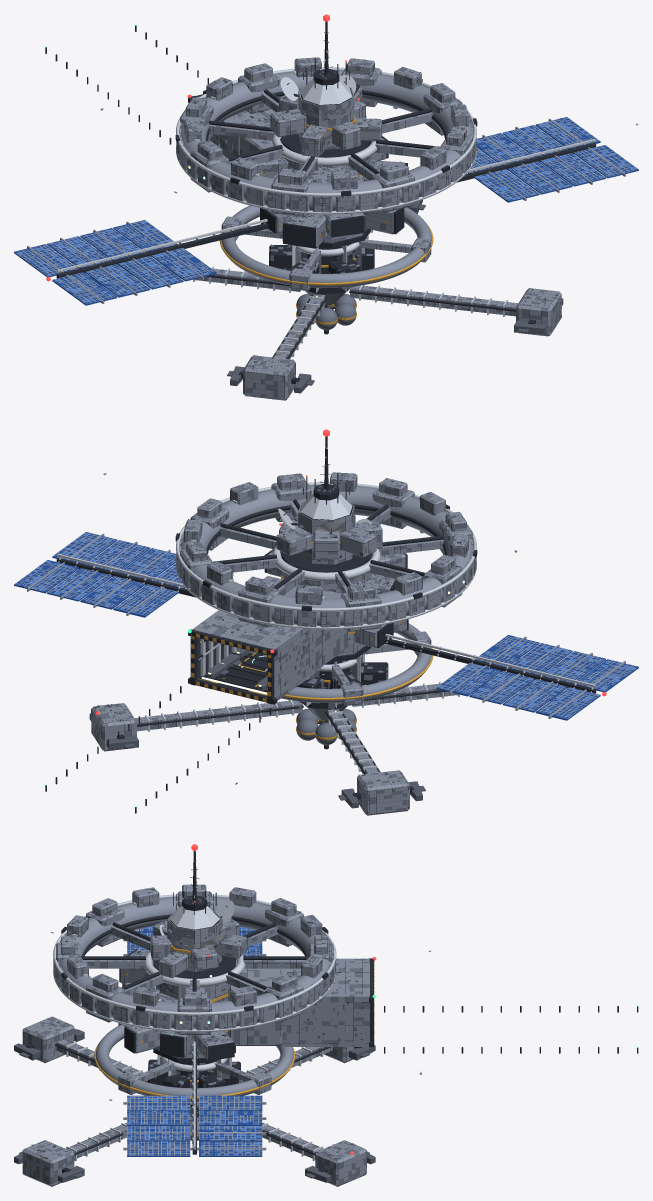
The model's file is station.glb.
3 renders of one model, top to bottom at view 1: azimuth 30°, elevation 25°; view 2: azimuth 150°, elevation 25°; view 3: azimuth 270°, elevation 25°, orthographic. The views are drawn at different scales.
Parts seen in each view (by area): view 1: core_mesh, ring_mesh, ring2_mesh; view 2: core_mesh, ring_mesh, ring2_mesh; view 3: core_mesh, ring_mesh, ring2_mesh.
Part boxes in pixels (box(x1,y1,x2,y2)): core_mesh: box(14, 21, 638, 400); ring_mesh: box(175, 57, 477, 216); ring2_mesh: box(219, 205, 433, 290); core_mesh: box(14, 436, 638, 815); ring_mesh: box(175, 472, 477, 631); ring2_mesh: box(281, 623, 433, 705); core_mesh: box(14, 851, 638, 1186); ring_mesh: box(53, 884, 336, 1034); ring2_mesh: box(94, 1023, 295, 1101).
Bounding box in the file's own units: 622 × 341 × 642.
